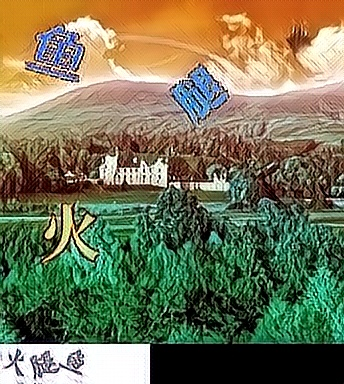BBF0: (41, 201, 103, 265)
CDC8: (169, 62, 231, 126)
D3E3: (23, 22, 85, 86)
